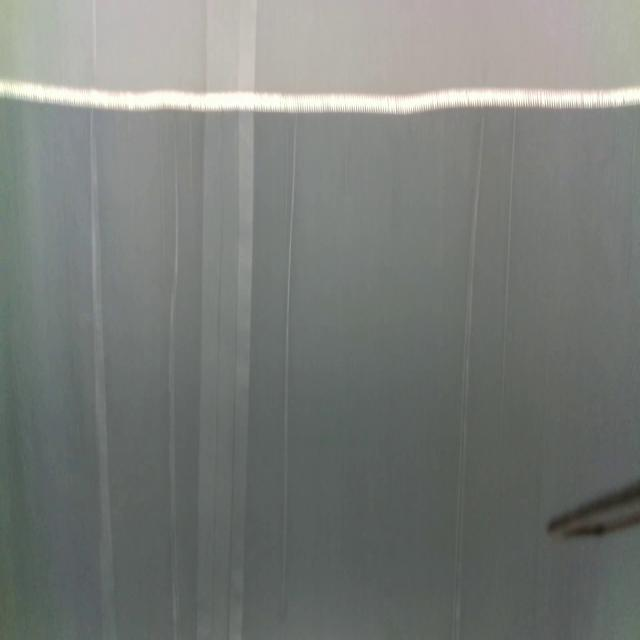crease: (193, 0, 257, 639), (452, 115, 486, 640), (90, 2, 115, 640), (280, 110, 300, 616), (169, 133, 181, 640), (499, 109, 517, 419)
